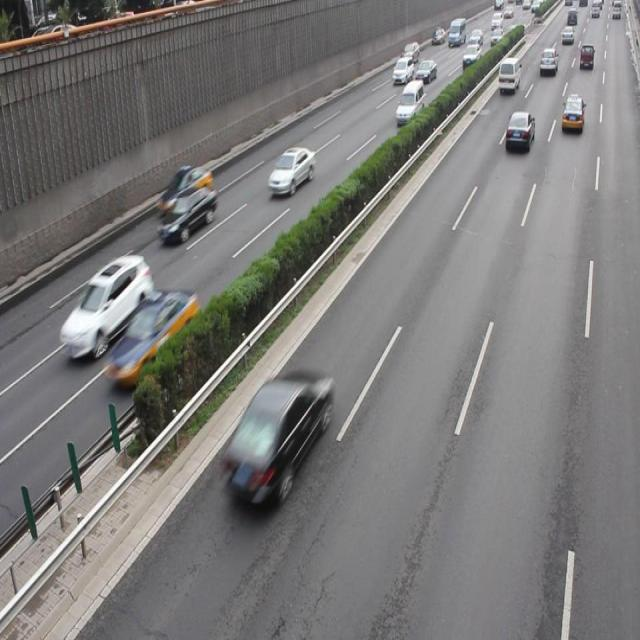car: (218, 369, 332, 508), (60, 255, 153, 361), (102, 288, 197, 385), (157, 184, 215, 245), (156, 165, 211, 218), (267, 144, 315, 196), (504, 110, 534, 153), (560, 95, 584, 133)
truck: (395, 78, 424, 124)
